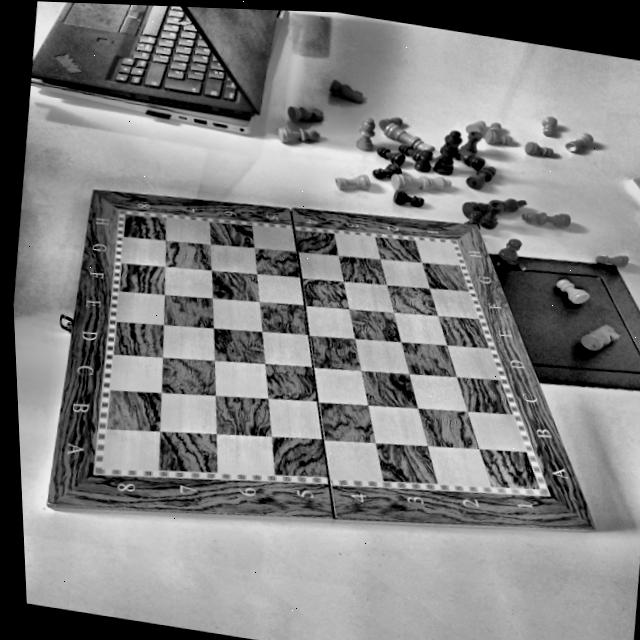chessboard: (48, 189, 596, 529)
